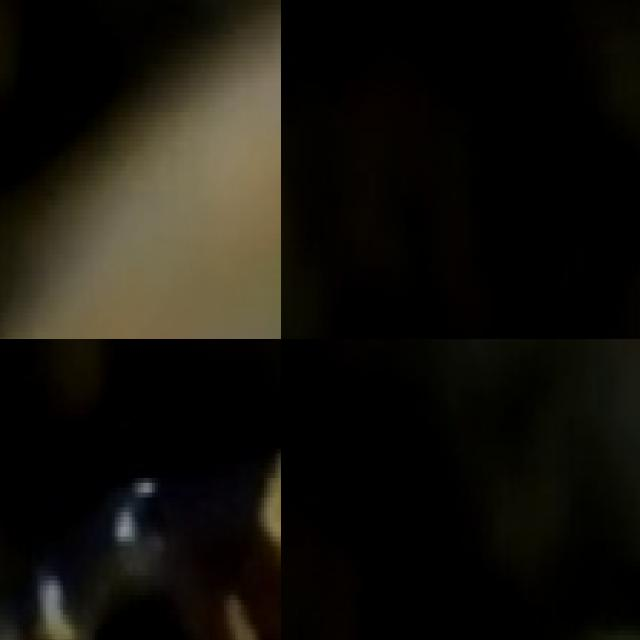fish: (0, 0, 281, 339), (0, 434, 281, 640)
